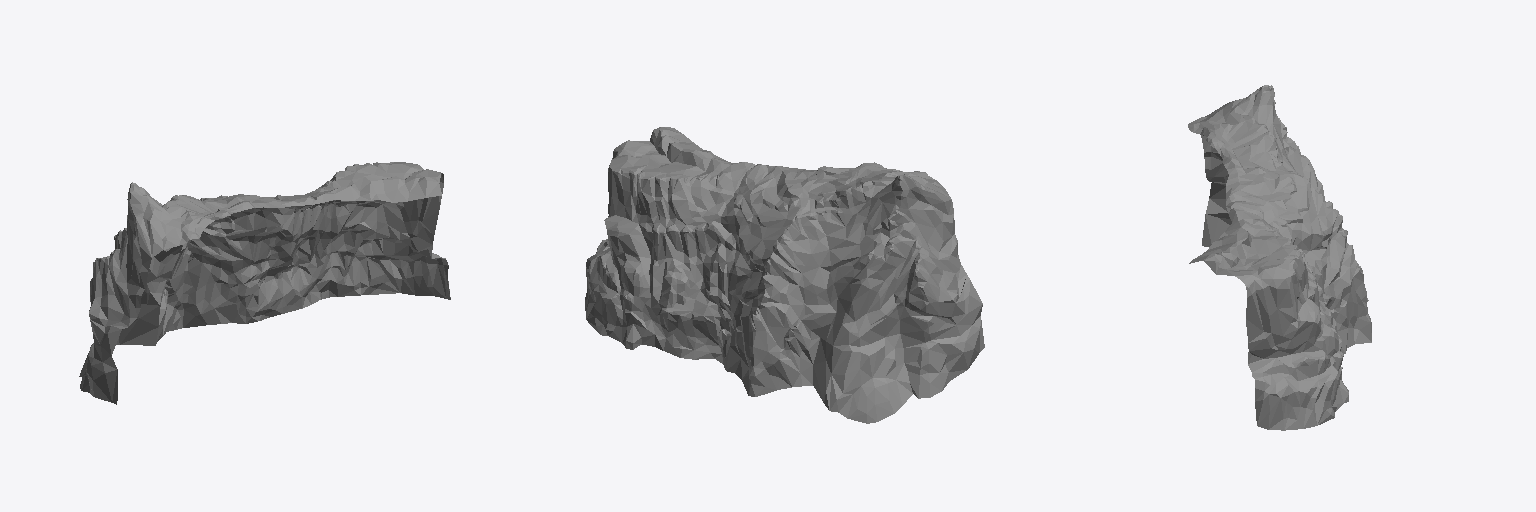
File: mountain_01.obj
3 views of the same model, side by side, from view 1: azimuth 30°, elevation 25°; view 2: azimuth 150°, elevation 25°; view 3: azimuth 270°, elevation 25° (orthographic).
Visible parts, largest first — view 1: MountainCliff01_0; view 2: MountainCliff01_0; view 3: MountainCliff01_0.
Boxes of the visible parts, box(x1,y1,x2,y2) form: MountainCliff01_0: box(79, 162, 450, 404); MountainCliff01_0: box(585, 127, 984, 423); MountainCliff01_0: box(1188, 85, 1371, 430).
Size of the model in its own units: 12684 by 7104 by 5500.